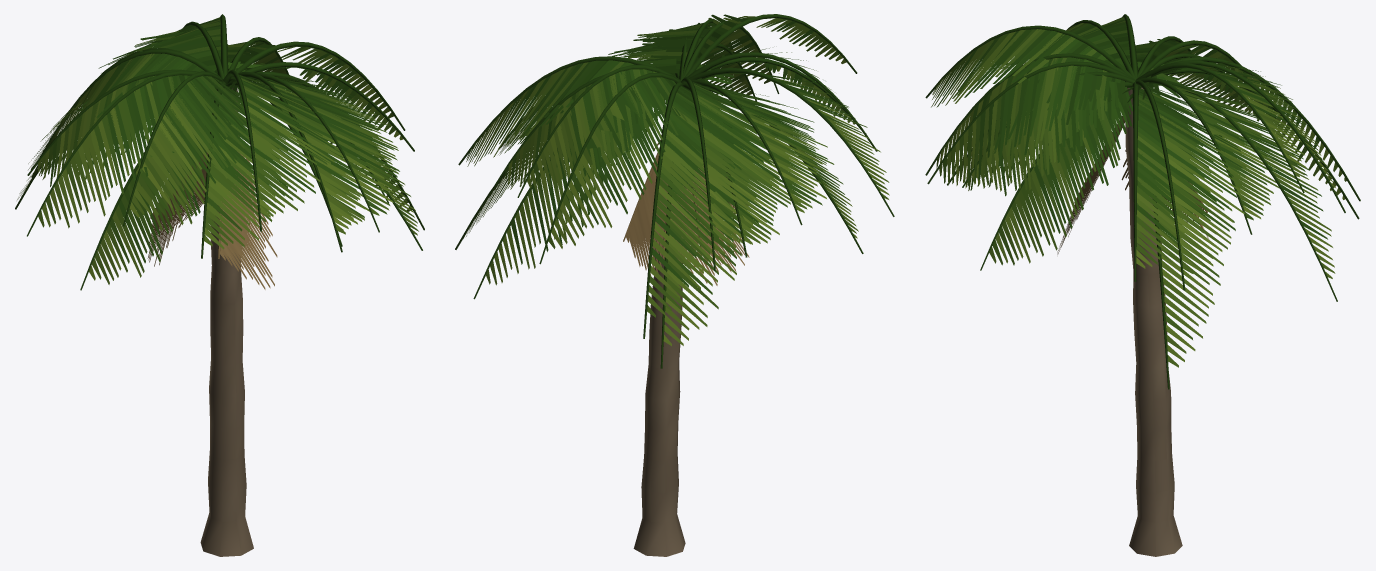
File: PLN_FernTree_Tall.fbx
3 views of the same model, side by side, from view 1: azimuth 30°, elevation 25°; view 2: azimuth 150°, elevation 25°; view 3: azimuth 270°, elevation 25° (orthographic). The views are drawn at different scales.
Visible parts, largest first — view 1: PLN_FernTree_Tall; view 2: PLN_FernTree_Tall; view 3: PLN_FernTree_Tall.
Part boxes in pixels (<box>): PLN_FernTree_Tall: <box>15,14,424,556</box>; PLN_FernTree_Tall: <box>455,14,894,556</box>; PLN_FernTree_Tall: <box>925,14,1360,556</box>.
Bounding box in the file's own units: 4.68 × 5.39 × 4.28.
